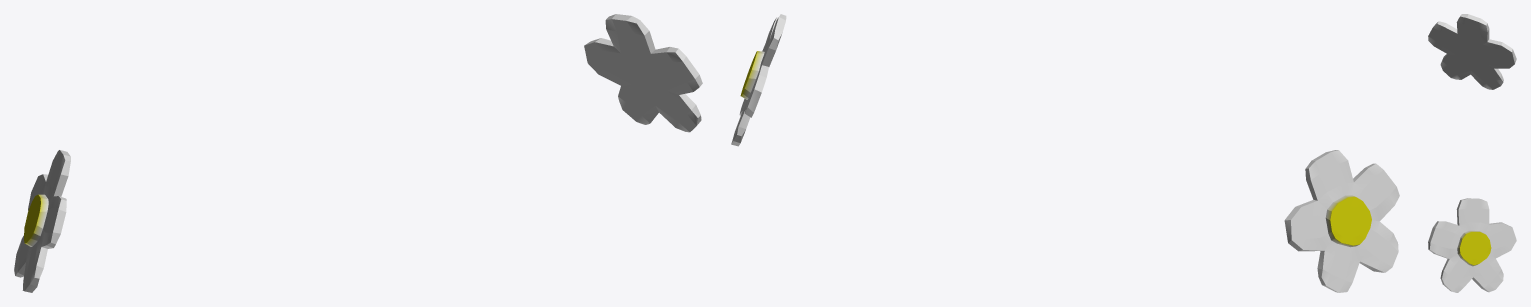
File: flowers_low_final_2.fbx
The picture shows the model from 3 angles, left to right: view 1: azimuth 30°, elevation 25°; view 2: azimuth 150°, elevation 25°; view 3: azimuth 270°, elevation 25°; orthographic projection. The views are drawn at different scales.
Parts seen in each view (by area): view 1: flowers_low_final; view 2: flowers_low_final; view 3: flowers_low_final.
Boxes of the visible parts, left/top/right/bottom form: flowers_low_final: left=14, top=14, right=702, bottom=292; flowers_low_final: left=731, top=14, right=1399, bottom=292; flowers_low_final: left=1428, top=14, right=1516, bottom=292.
Bounding box in the file's own units: 5.31 × 0.9591 × 0.9145.
